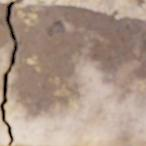broken_brick: (5, 4, 145, 145), (0, 2, 13, 102), (0, 110, 9, 144)
crack: (0, 1, 17, 144)
